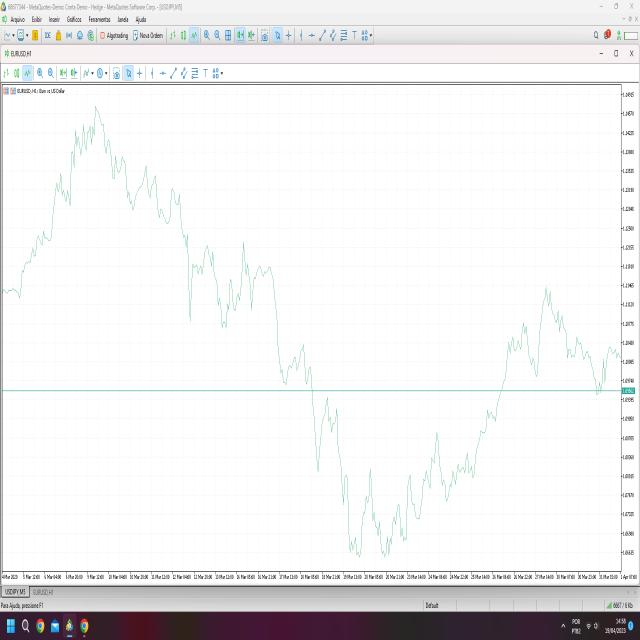bandeira_baixa: (263, 257, 316, 397)
